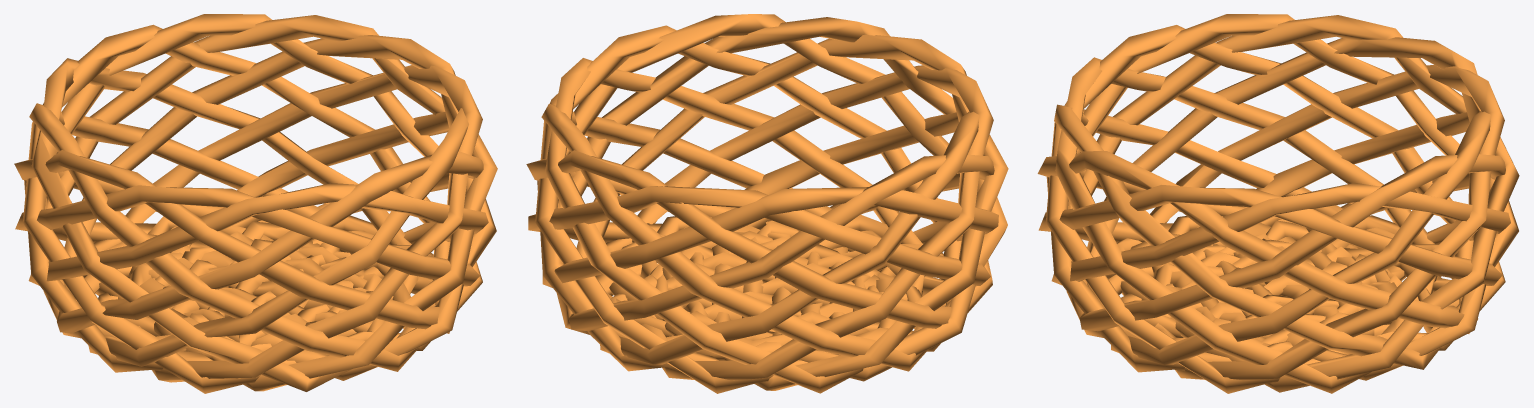
Rendered from Basket.fbx.
The picture shows the model from 3 angles, left to right: view 1: azimuth 30°, elevation 25°; view 2: azimuth 150°, elevation 25°; view 3: azimuth 270°, elevation 25°; orthographic projection.
Visible parts, largest first — view 1: Basket; view 2: Basket; view 3: Basket.
Boxes of the visible parts, x1,y1,x2,y2 form: Basket: (14,14,497,393); Basket: (526,14,1008,393); Basket: (1037,14,1519,393).
Bounding box in the file's own units: 61.69 × 29.92 × 61.48.
